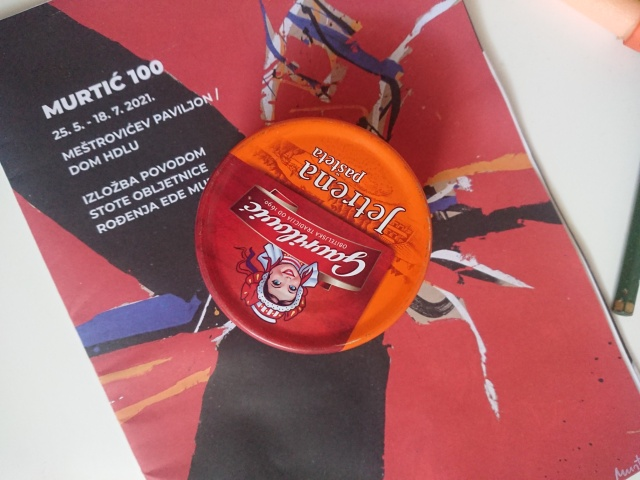Gavrilovic Pork Liver Pate 100g: (189, 112, 436, 359)
